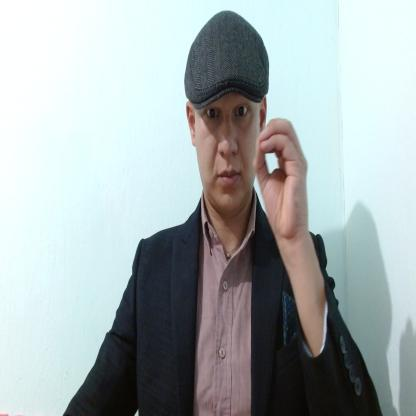O: (254, 115, 310, 244)
